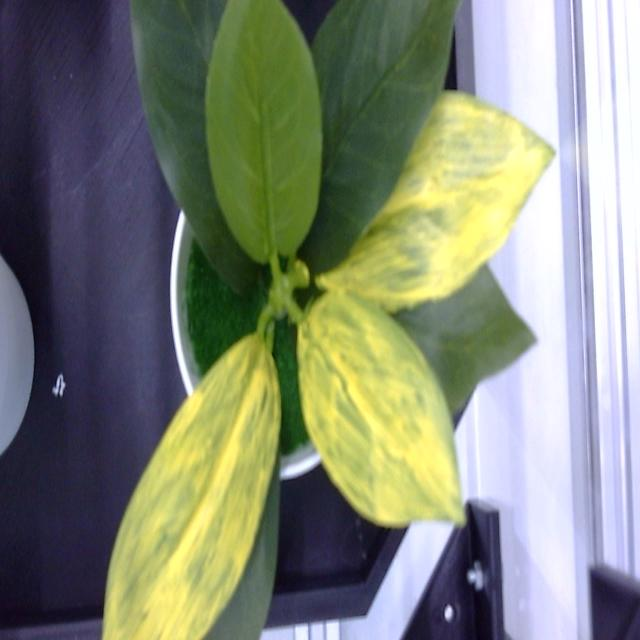Green: (295, 0, 458, 273), (300, 0, 459, 274), (131, 0, 259, 293), (205, 0, 322, 279), (394, 265, 536, 423)
Yellow: (102, 333, 280, 639), (316, 94, 554, 313), (298, 292, 463, 525)
